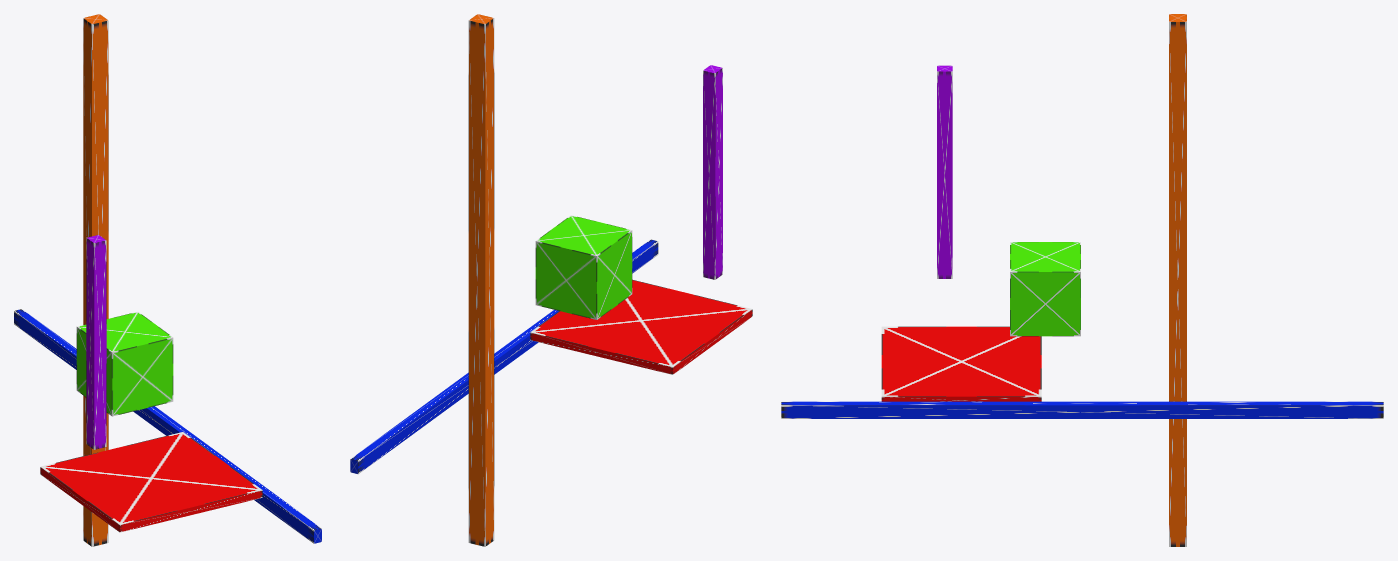
File: SM_Deccer_Cubes_Textured_Animated.glb
3 views of the same model, side by side, from view 1: azimuth 30°, elevation 25°; view 2: azimuth 150°, elevation 25°; view 3: azimuth 270°, elevation 25° (orthographic).
Visible parts, largest first — view 1: Cube.004, Cube.002, Cube, Cube.003, Cube.001; view 2: Cube.002, Cube.004, Cube, Cube.003, Cube.001; view 3: Cube.004, Cube.001, Cube.002, Cube, Cube.003.
Boxes of the visible parts, <box> form: Cube.004: <box>40,432,262,532</box>; Cube.002: <box>83,14,108,546</box>; Cube: <box>76,311,173,416</box>; Cube.003: <box>86,235,106,449</box>; Cube.001: <box>14,309,321,543</box>; Cube.002: <box>468,14,494,546</box>; Cube.004: <box>530,279,752,374</box>; Cube: <box>535,215,632,319</box>; Cube.003: <box>703,65,722,279</box>; Cube.001: <box>350,239,658,474</box>; Cube.004: <box>881,326,1041,401</box>; Cube.001: <box>781,401,1383,418</box>; Cube.002: <box>1169,14,1186,546</box>; Cube: <box>1010,242,1080,336</box>; Cube.003: <box>937,65,952,278</box>.
Size of the model in its own units: 4.97 by 16.3 by 16.96.
Materials: 5 (5 with a texture image).
